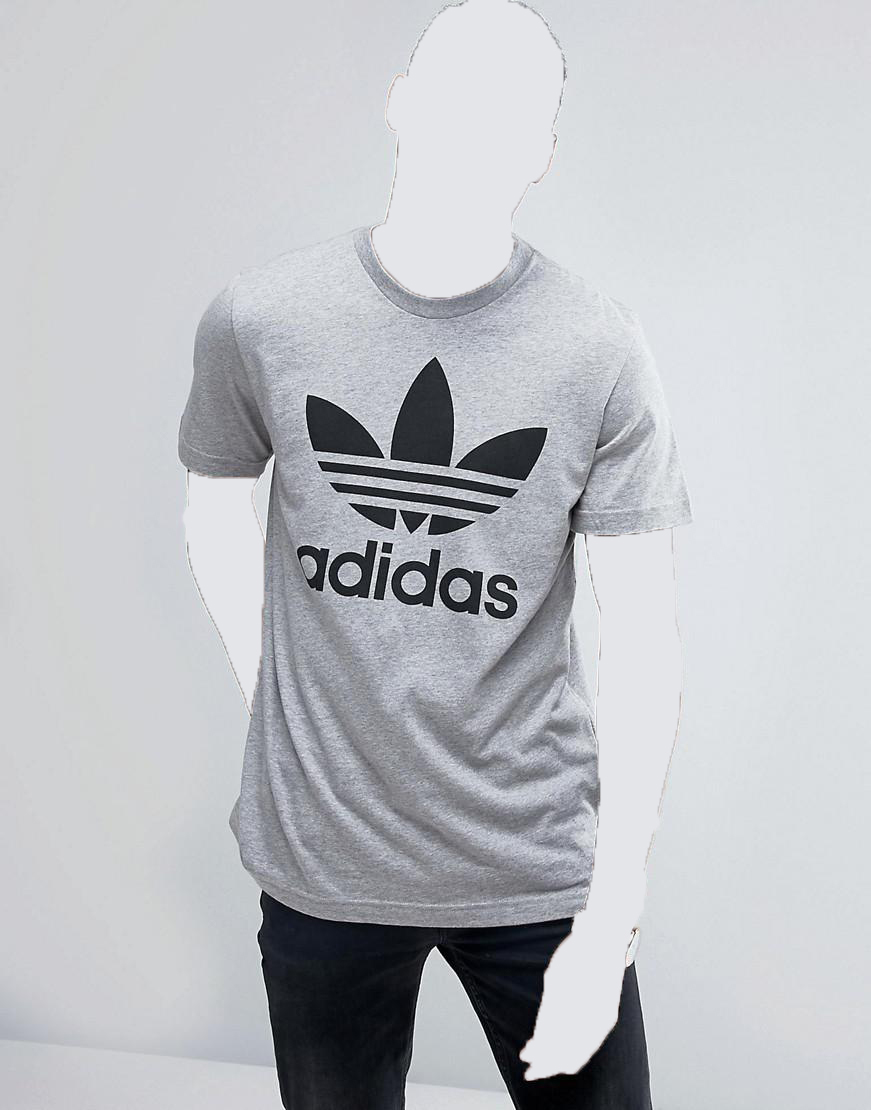teeshirt: (164, 224, 696, 932)
